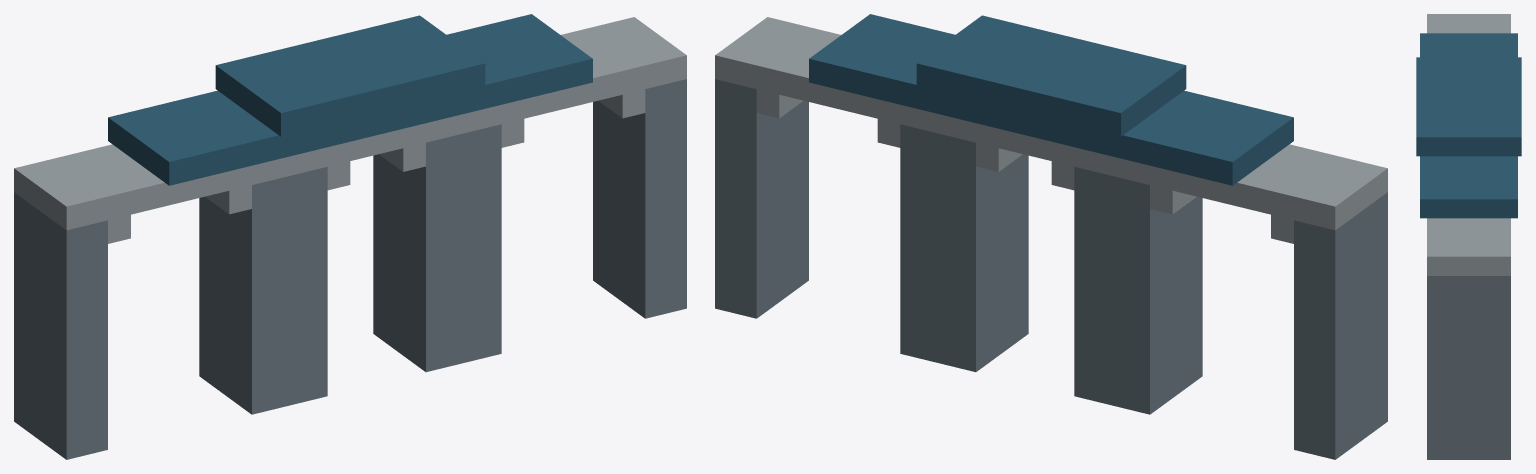
The model's file is Blockland_TripleArch_Simple.glb.
3 views of the same model, side by side, from view 1: azimuth 30°, elevation 25°; view 2: azimuth 150°, elevation 25°; view 3: azimuth 270°, elevation 25° (orthographic). The views are drawn at different scales.
Parts seen in each view (by area): view 1: Blockland_TripleArch_Simple; view 2: Blockland_TripleArch_Simple; view 3: Blockland_TripleArch_Simple.
Part boxes in pixels (x1,y1,x2,y2): Blockland_TripleArch_Simple: [14, 14, 686, 459]; Blockland_TripleArch_Simple: [715, 14, 1387, 459]; Blockland_TripleArch_Simple: [1416, 14, 1521, 459].
Size of the model in its own units: 8.2 by 3.8 by 1.5.
